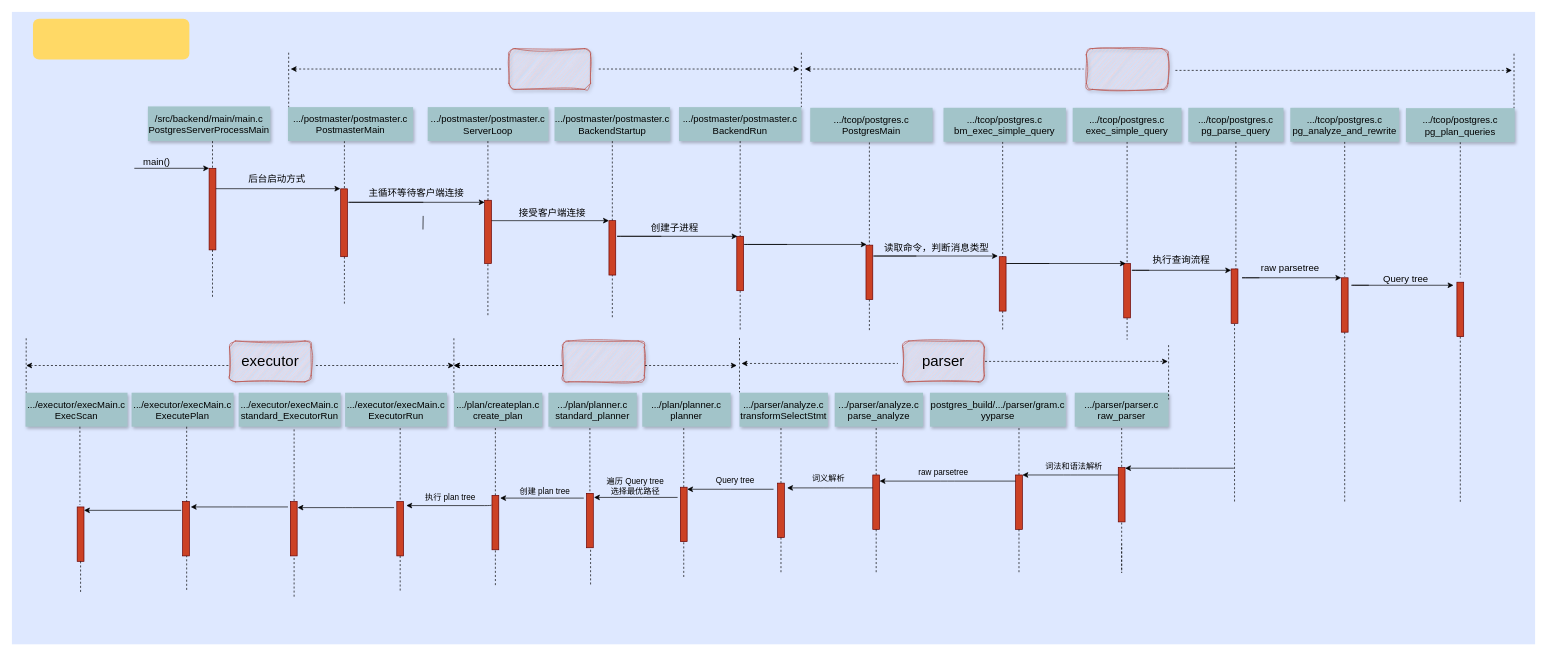
Image size: 1546x656. Some labels were removed from this diagram. The centre of each missing label's shape, as x and y in pixels:
"optimizer" belongs at pixel 603 362.
"postmaster" belongs at pixel 550 69.
"tcop" belongs at pixel 1127 69.
"查询语句的代码流程" belongs at pixel 111 38.
